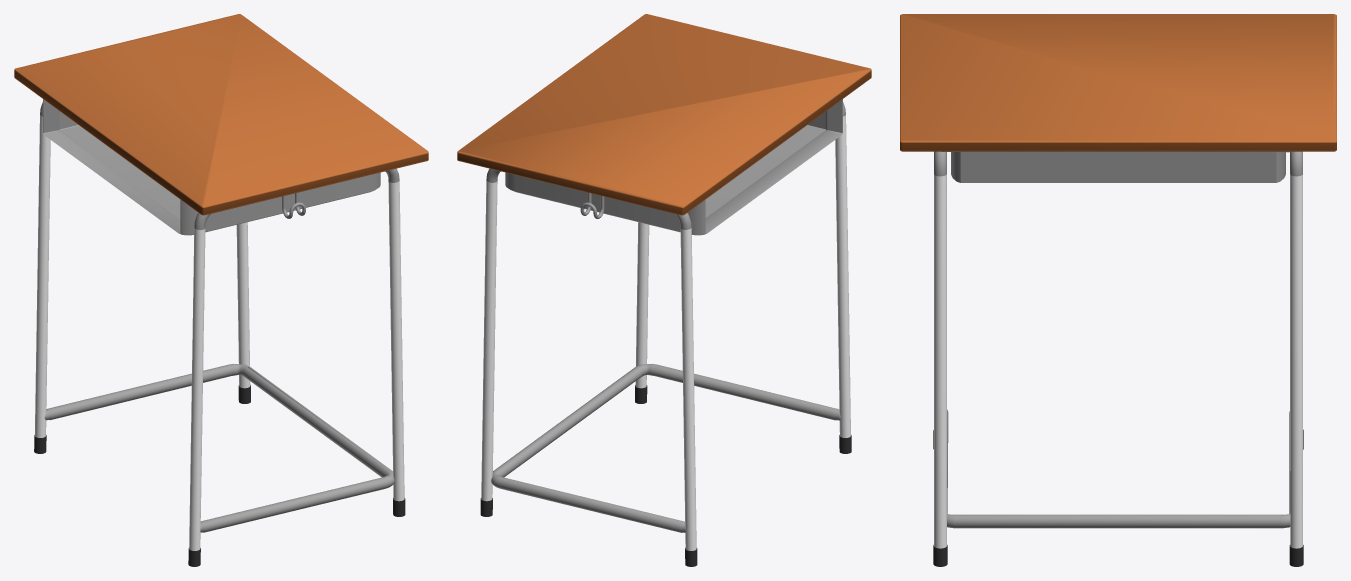
The model's file is school desk1.obj.
3 views of the same model, side by side, from view 1: azimuth 30°, elevation 25°; view 2: azimuth 150°, elevation 25°; view 3: azimuth 270°, elevation 25° (orthographic). The views are drawn at different scales.
Parts seen in each view (by area): view 1: tenban, asi_Cylinder.006, tanaita, asikake_Cylinder.007; view 2: tenban, asi_Cylinder.006, tanaita, asikake_Cylinder.007; view 3: tenban, asi_Cylinder.006, tanaita, asikake_Cylinder.007.
Part boxes in pixels (<box>): tenban: <box>14,14,428,215</box>; asi_Cylinder.006: <box>34,102,405,566</box>; tanaita: <box>43,99,380,235</box>; asikake_Cylinder.007: <box>44,364,394,532</box>; tenban: <box>457,14,871,215</box>; asi_Cylinder.006: <box>480,102,851,566</box>; tanaita: <box>505,99,842,235</box>; asikake_Cylinder.007: <box>491,364,840,532</box>; tenban: <box>900,14,1336,151</box>; asi_Cylinder.006: <box>933,151,1303,566</box>; tanaita: <box>942,151,1294,182</box>; asikake_Cylinder.007: <box>947,409,1290,528</box>.
Bounding box in the file's own units: 4.52 × 7.08 × 6.53.
